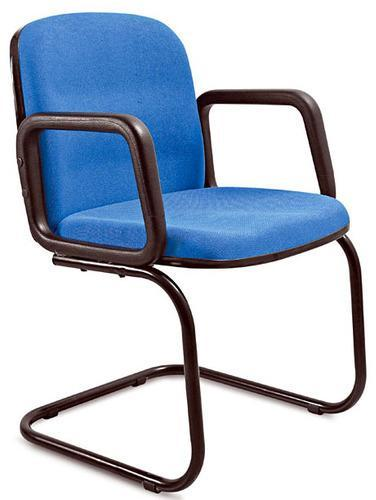chair: (0, 8, 374, 496)
